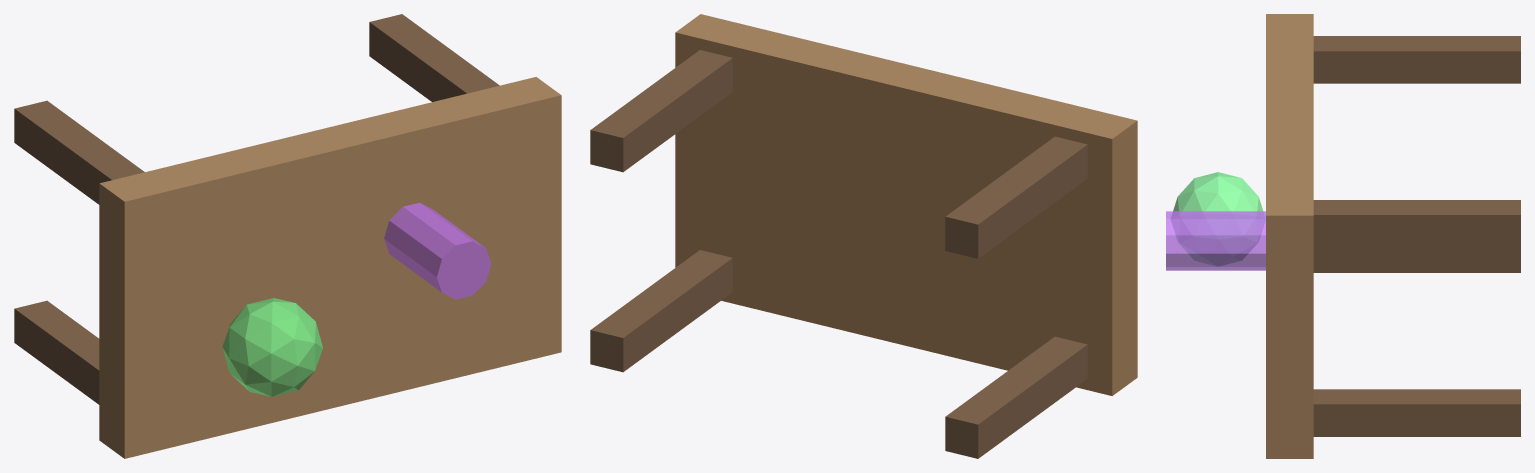
Rendered from 01_alchemy_table.glb.
3 views of the same model, side by side, from view 1: azimuth 30°, elevation 25°; view 2: azimuth 150°, elevation 25°; view 3: azimuth 270°, elevation 25° (orthographic). The views are drawn at different scales.
Parts seen in each view (by area): view 1: table_top, flask, bottle, leg_3, leg_4, leg_1; view 2: table_top, leg_1, leg_3, leg_2, leg_4; view 3: table_top, leg_2, leg_3, leg_4, flask, bottle, leg_1.
Part boxes in pixels (x1=…): table_top: x1=99, y1=77, x2=561, y2=458; flask: x1=222, y1=298, x2=322, y2=396; bottle: x1=384, y1=202, x2=491, y2=299; leg_3: x1=14, y1=100, x2=144, y2=204; leg_4: x1=369, y1=14, x2=499, y2=101; leg_1: x1=14, y1=300, x2=99, y2=404; table_top: x1=675, y1=14, x2=1137, y2=395; leg_1: x1=945, y1=336, x2=1087, y2=458; leg_3: x1=945, y1=136, x2=1087, y2=258; leg_2: x1=590, y1=250, x2=732, y2=372; leg_4: x1=590, y1=50, x2=732, y2=172; table_top: x1=1266, y1=14, x2=1313, y2=458; leg_2: x1=1313, y1=389, x2=1520, y2=436; leg_3: x1=1313, y1=36, x2=1520, y2=83; leg_4: x1=1313, y1=200, x2=1520, y2=247; flask: x1=1171, y1=172, x2=1265, y2=265; bottle: x1=1166, y1=211, x2=1265, y2=270; leg_1: x1=1313, y1=247, x2=1520, y2=272.
Size of the model in its own units: 1.6 by 0.9 by 1.19.
